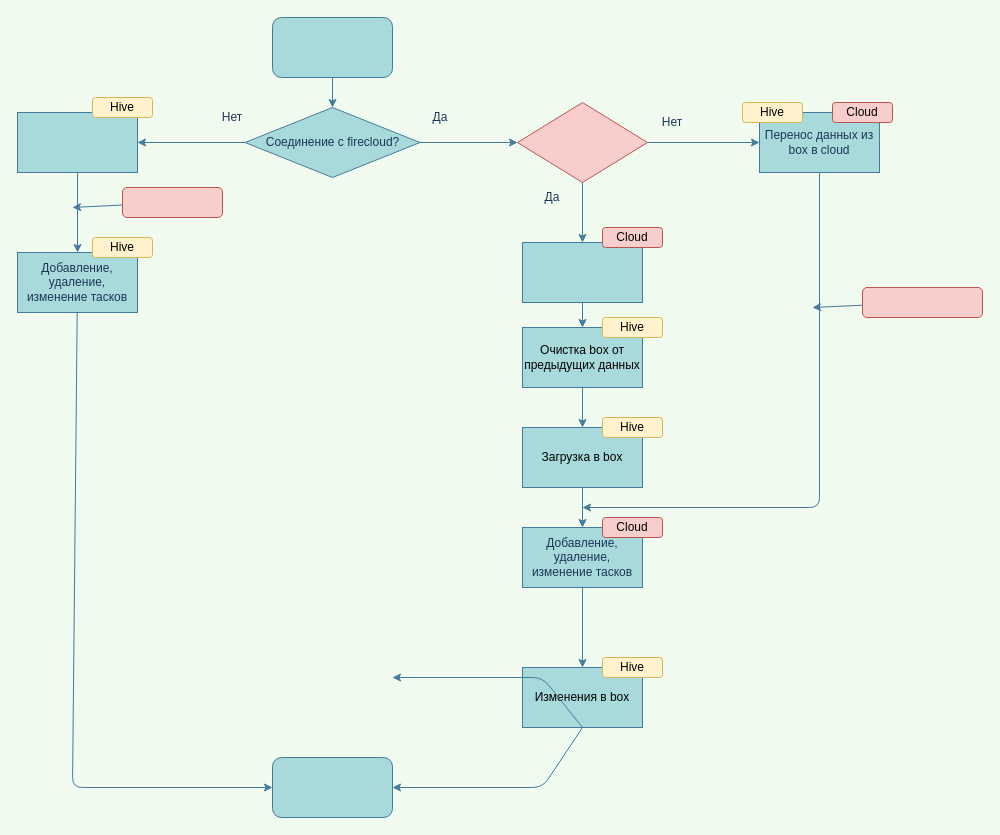
The diagram is 1000 pixels wide and 835 high, and some of its shapes have lost their labels. The centre of each missing label's shape, as x and y in pixels:
"needSync = false" goes at point 922,302.
"needSync = true" goes at point 172,202.
"needSync == false" goes at point 582,142.
"Загрузка в рабочий список данных из box" goes at point 77,142.
"Загрузка тасков с облака в UI" goes at point 582,272.
"Запуск программы после авторизации" goes at point 332,47.
"Окончание работы" goes at point 332,787.
